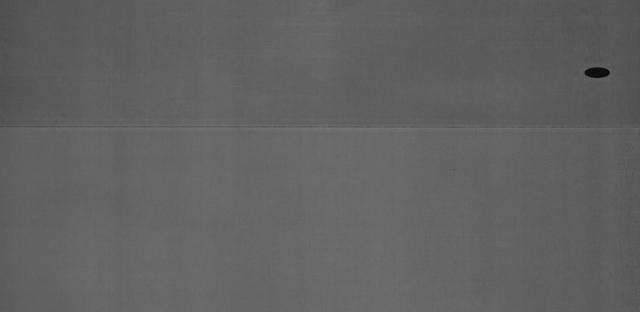punching_hole: (580, 64, 612, 82)
welding_line: (1, 117, 640, 141)
